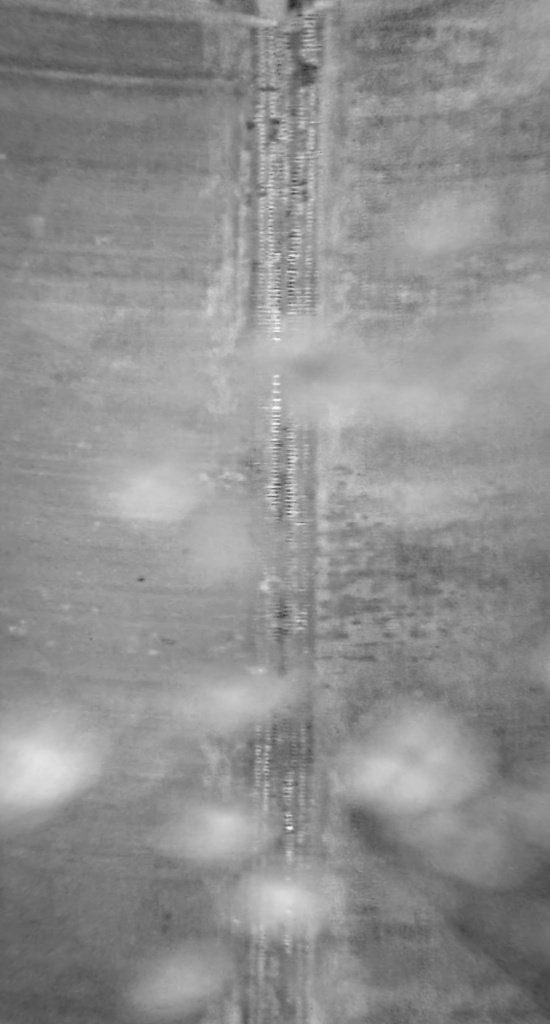splice: (225, 1, 322, 1022)
